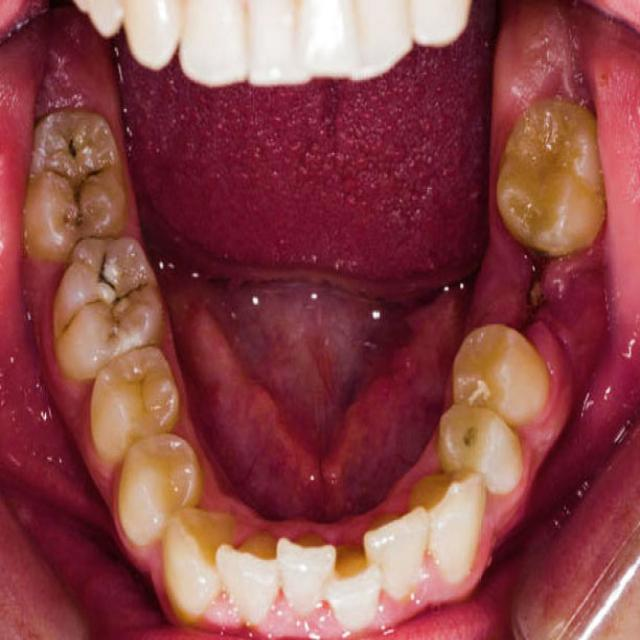caries: (42, 160, 114, 209), (60, 295, 111, 347), (109, 272, 149, 325), (86, 240, 122, 294), (454, 419, 493, 467), (58, 207, 94, 243), (59, 128, 90, 168)
